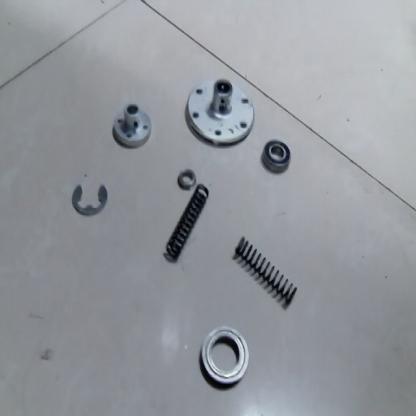FOD: (2, 6, 411, 414), (233, 230, 300, 311), (184, 74, 254, 150), (162, 181, 209, 263), (193, 324, 250, 390), (109, 97, 155, 148), (69, 178, 110, 217), (258, 140, 293, 173), (173, 167, 199, 195)
